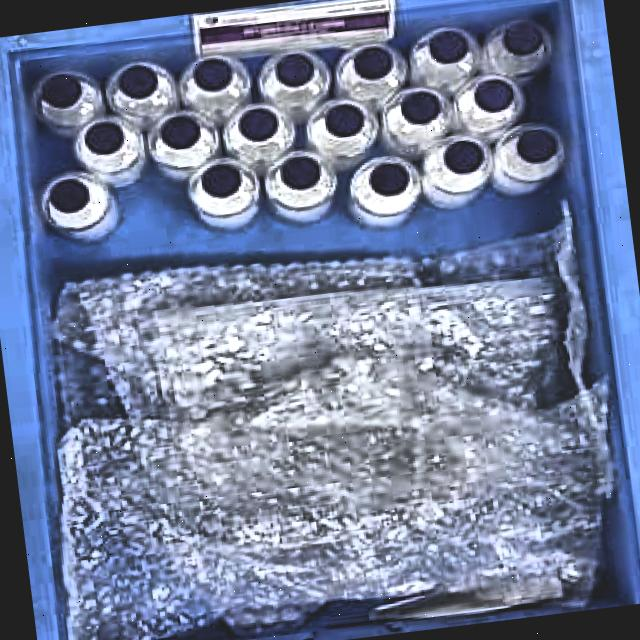vial: (46, 177, 90, 213), (199, 161, 241, 198), (82, 120, 125, 156), (443, 138, 485, 174), (324, 104, 365, 140), (237, 107, 279, 142), (39, 73, 81, 108), (515, 129, 558, 163), (398, 91, 442, 124), (280, 154, 320, 190), (368, 161, 410, 195), (501, 22, 543, 56), (428, 31, 471, 64), (275, 52, 316, 86), (160, 115, 199, 150), (194, 58, 234, 92), (119, 64, 157, 99), (473, 79, 512, 113), (353, 46, 393, 79)
